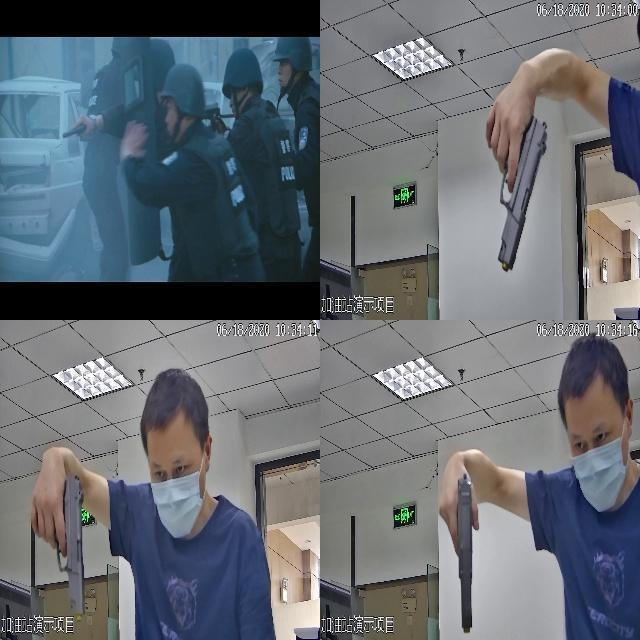gun-knife-thesis - v11 Yolov5 augmented: (16, 466, 93, 608), (480, 98, 543, 265), (437, 471, 481, 630), (58, 115, 92, 136)
